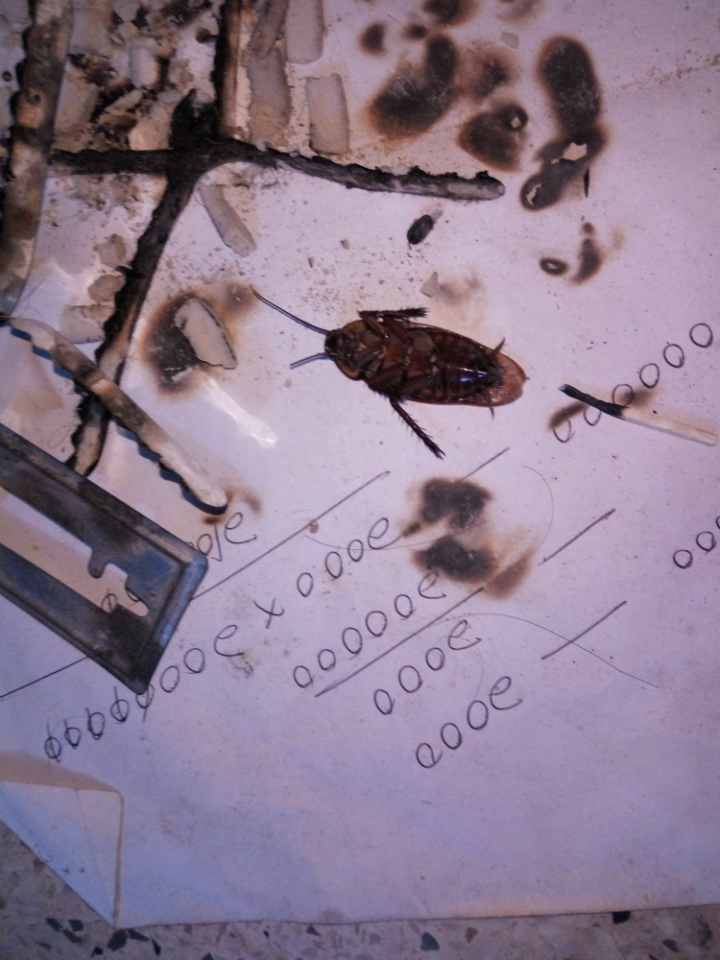cockroach: (225, 252, 582, 474)
